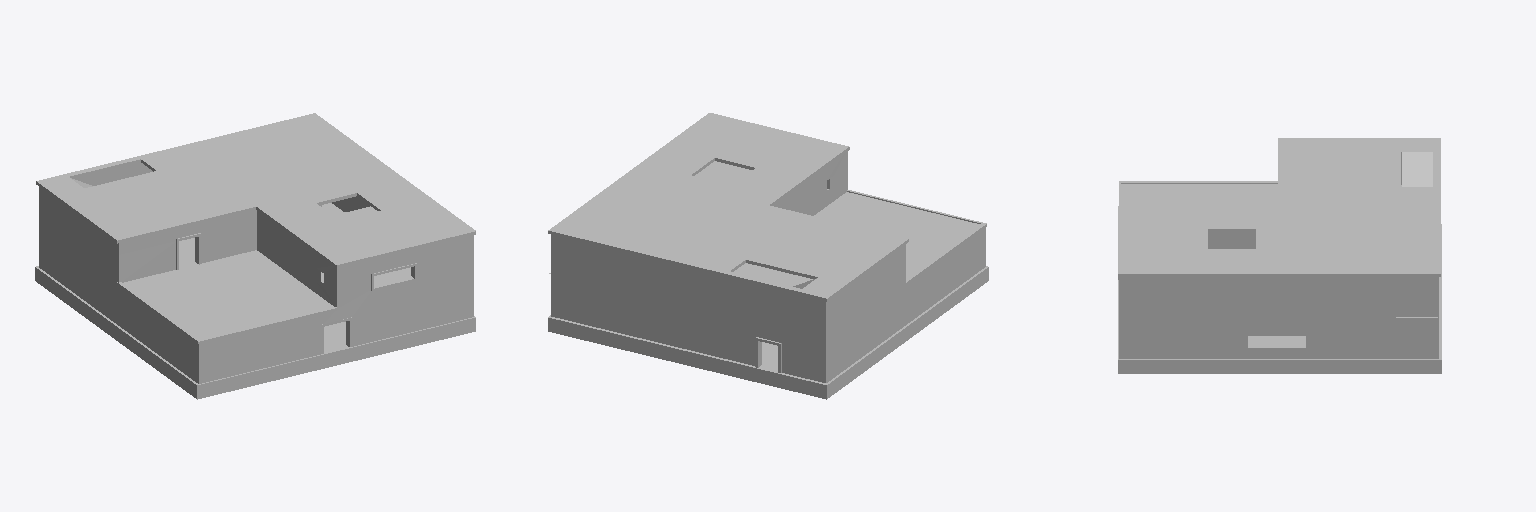
The model's file is Observatory_House_03_LOD1.obj.
3 renders of one model, left to right at view 1: azimuth 30°, elevation 25°; view 2: azimuth 150°, elevation 25°; view 3: azimuth 270°, elevation 25°, orthographic.
Visible parts, largest first — view 1: Observatory_House_03_LOD1_0, Observatory_House_03_LOD1_1; view 2: Observatory_House_03_LOD1_0, Observatory_House_03_LOD1_1; view 3: Observatory_House_03_LOD1_0, Observatory_House_03_LOD1_1.
Part boxes in pixels (x1,y1,x2,y2): Observatory_House_03_LOD1_0: (35,113,475,399); Observatory_House_03_LOD1_1: (71,178,416,353); Observatory_House_03_LOD1_0: (548,113,988,399); Observatory_House_03_LOD1_1: (549,161,980,372); Observatory_House_03_LOD1_0: (1118,138,1441,373); Observatory_House_03_LOD1_1: (1118,152,1437,349).
Bounding box in the file's own units: 20.28 × 6.94 × 20.35.